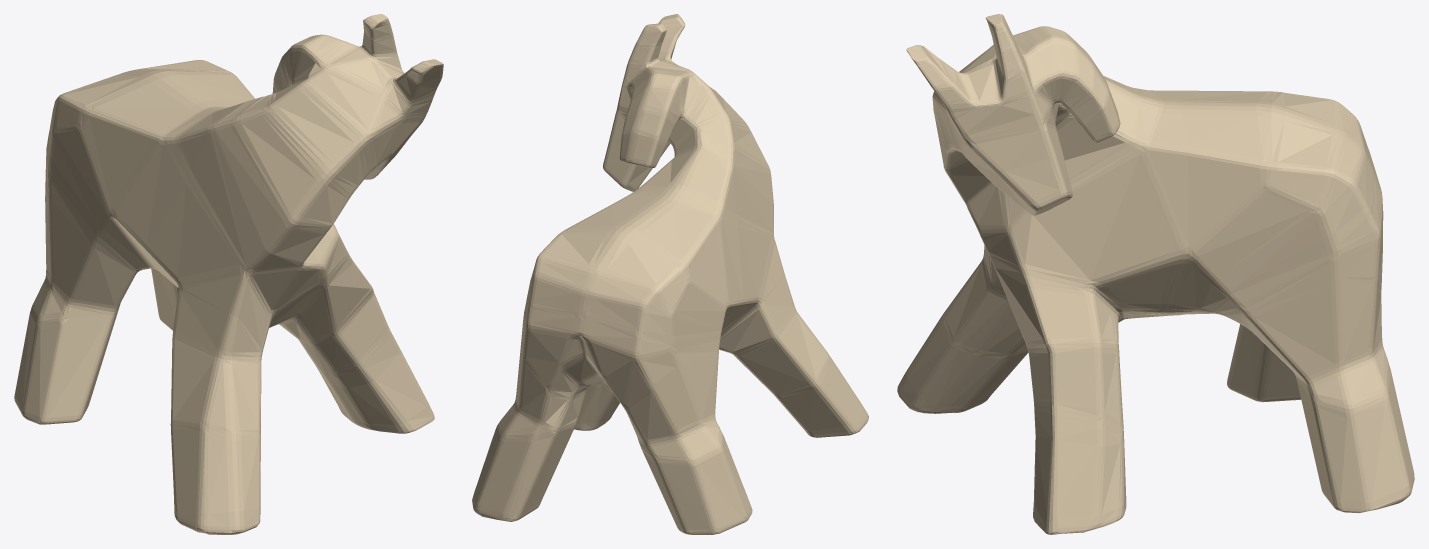
Rendered from dyr-01.glb.
3 views of the same model, side by side, from view 1: azimuth 30°, elevation 25°; view 2: azimuth 150°, elevation 25°; view 3: azimuth 270°, elevation 25° (orthographic). The views are drawn at different scales.
Parts seen in each view (by area): view 1: ny-01; view 2: ny-01; view 3: ny-01.
Boxes of the visible parts, left/top/right/bottom form: ny-01: left=14, top=14, right=443, bottom=534; ny-01: left=472, top=14, right=868, bottom=534; ny-01: left=897, top=14, right=1414, bottom=534.
Bounding box in the file's own units: 0.7358 × 0.9995 × 0.9761.
